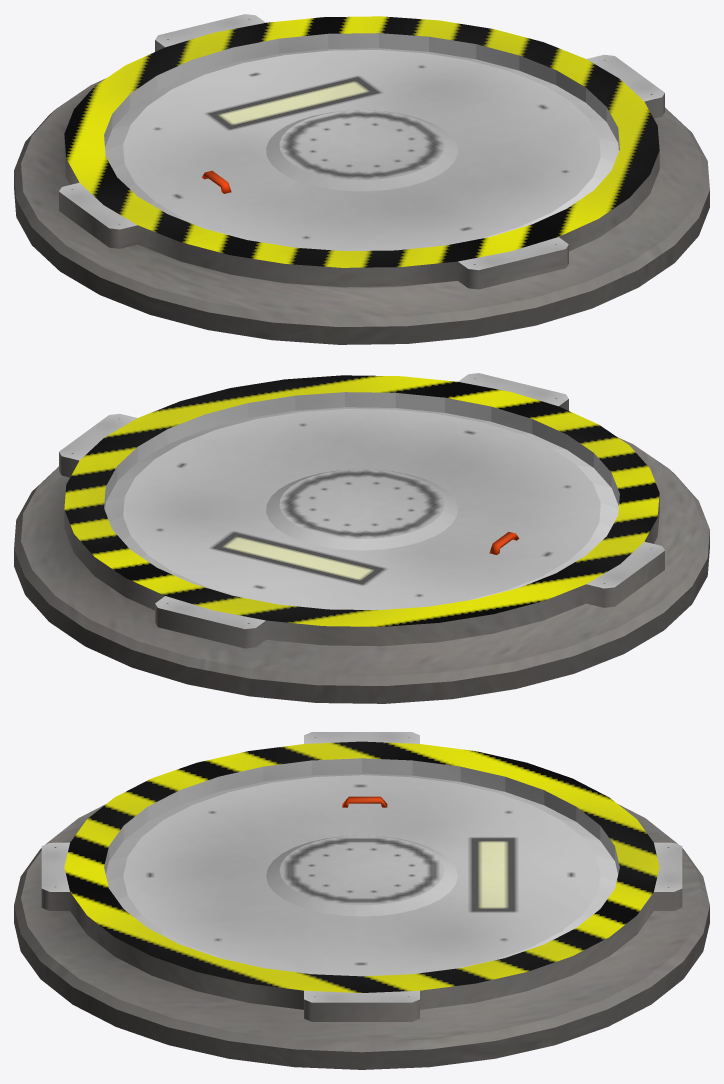
File: docking-port-s2.fbx
The picture shows the model from 3 angles, top to bottom: view 1: azimuth 30°, elevation 25°; view 2: azimuth 150°, elevation 25°; view 3: azimuth 270°, elevation 25°; orthographic projection.
Parts seen in each view (by area): view 1: docking_port; view 2: docking_port; view 3: docking_port.
Part boxes in pixels (x1,y1,x2,y2): docking_port: [14, 14, 709, 344]; docking_port: [14, 373, 709, 703]; docking_port: [14, 732, 709, 1069].
Size of what is drawn, in the model's own units: 2.5 by 0.2819 by 2.5.
1 material, 1 textured.
